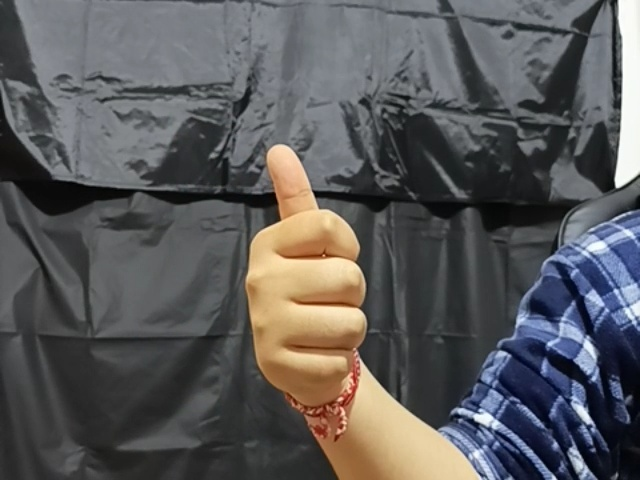A: (238, 141, 379, 402)
